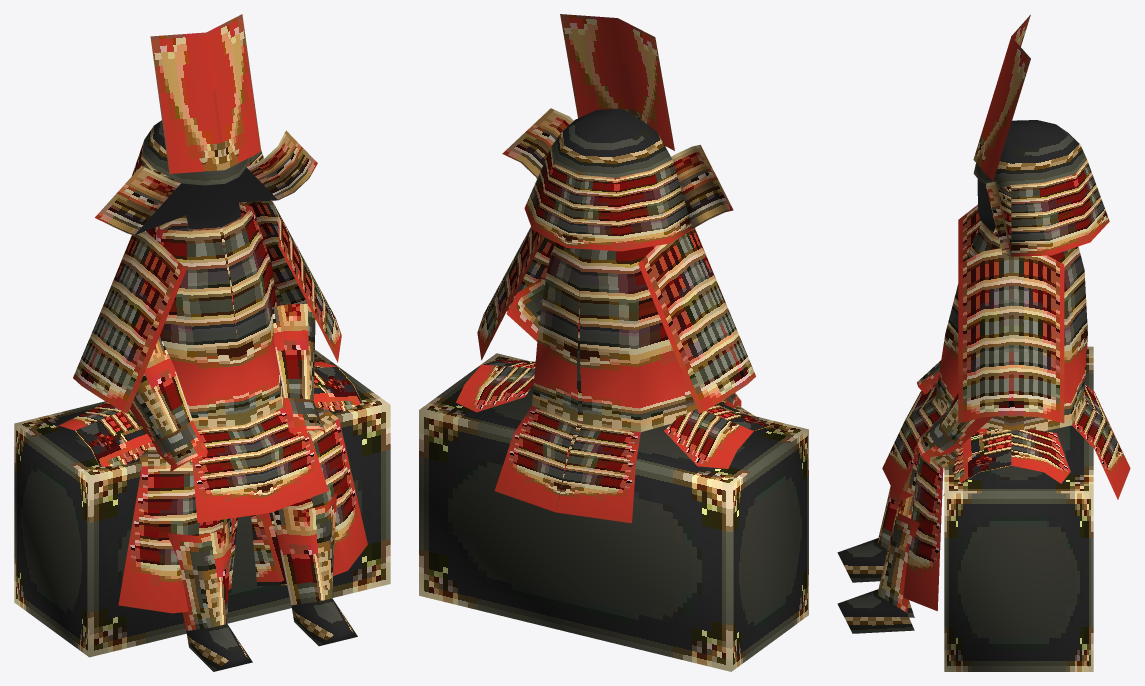
Rendered from int_jpn_armor.dae.
3 renders of one model, left to right at view 1: azimuth 30°, elevation 25°; view 2: azimuth 150°, elevation 25°; view 3: azimuth 270°, elevation 25°, orthographic. The views are drawn at different scales.
Visible parts, largest first — view 1: int_jpn_armor; view 2: int_jpn_armor; view 3: int_jpn_armor.
Boxes of the visible parts, bbox=[...] form: int_jpn_armor: bbox=[14, 14, 390, 671]; int_jpn_armor: bbox=[419, 14, 808, 671]; int_jpn_armor: bbox=[837, 14, 1130, 671].
Bounding box in the file's own units: 36.69 × 65.6 × 31.
Materials: 2 (2 with a texture image).
